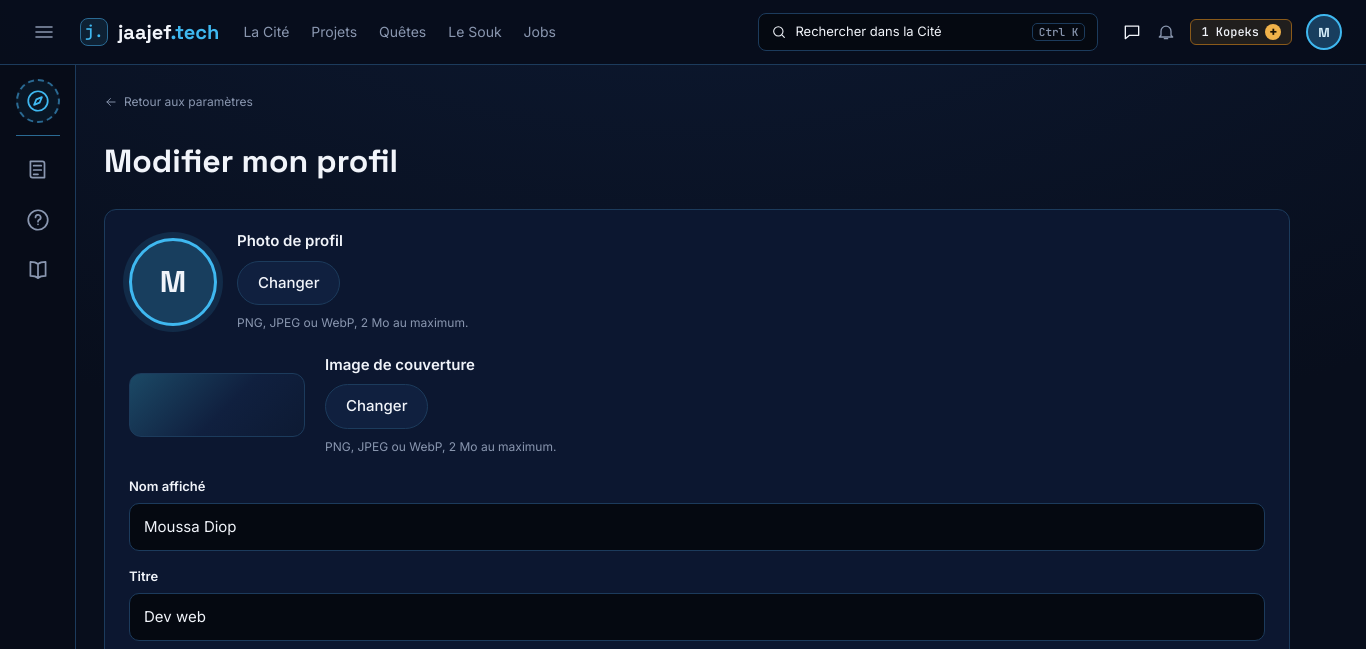
Test case: Edit profile › saves the changes for my own account, refreshes the top bar, and links to my profile
This screenshot has width=1366, height=649.
Replace the text in the field labelled "Nom affiché" with "Moussa D." at (697, 527), box [129, 502, 1265, 551]
(page scrolled)
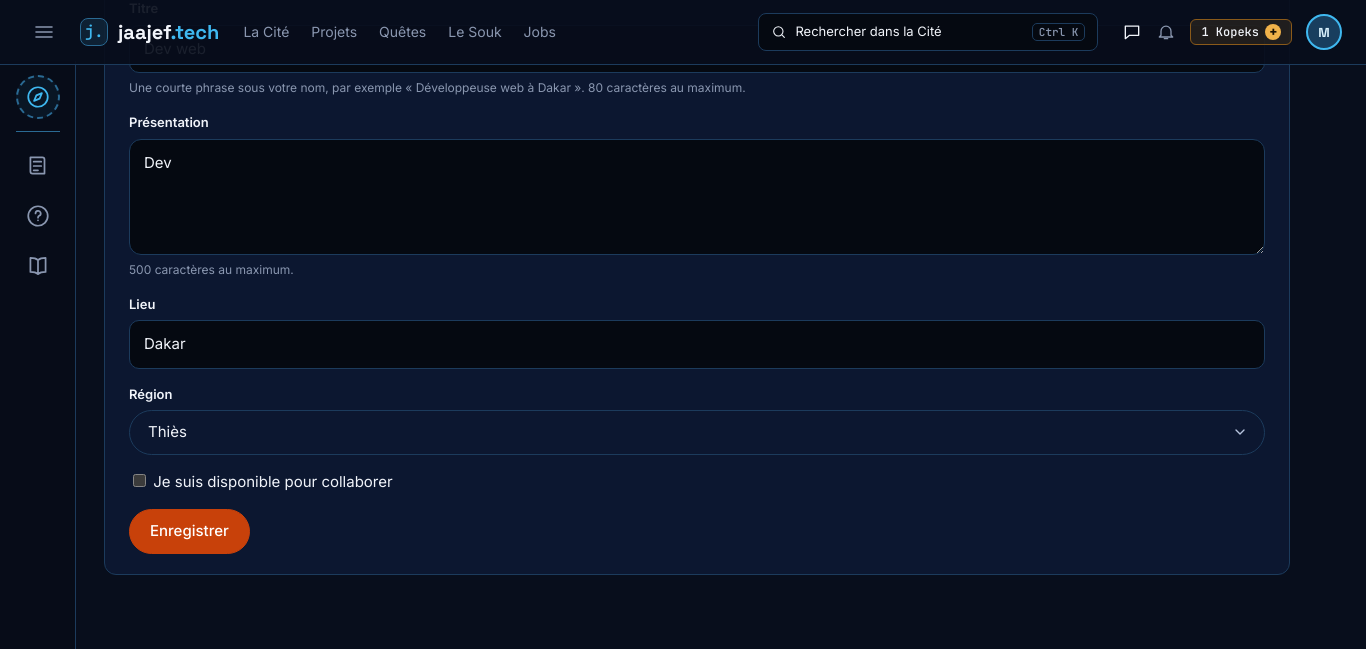
Click the checkbox labelled "Je suis disponible pour collaborer" at (140, 480), box [133, 474, 146, 486]
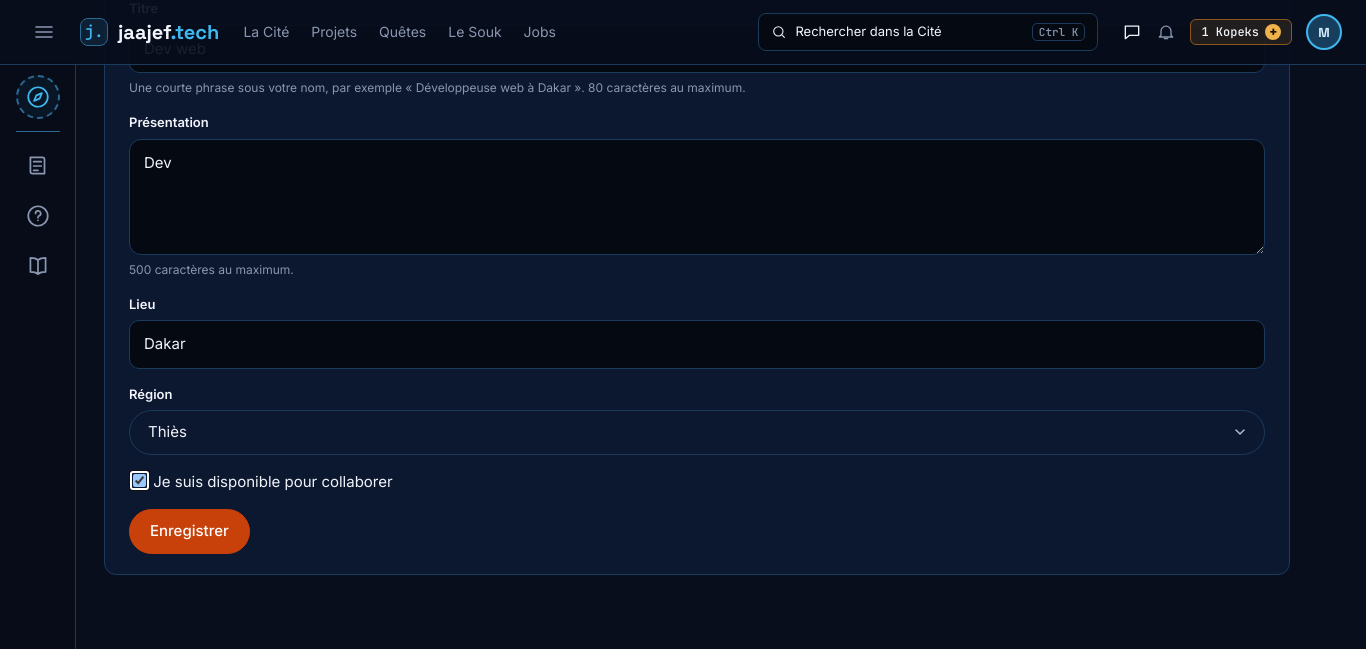
Click the button "Enregistrer" at (189, 531), box [129, 509, 250, 554]
(page scrolled)
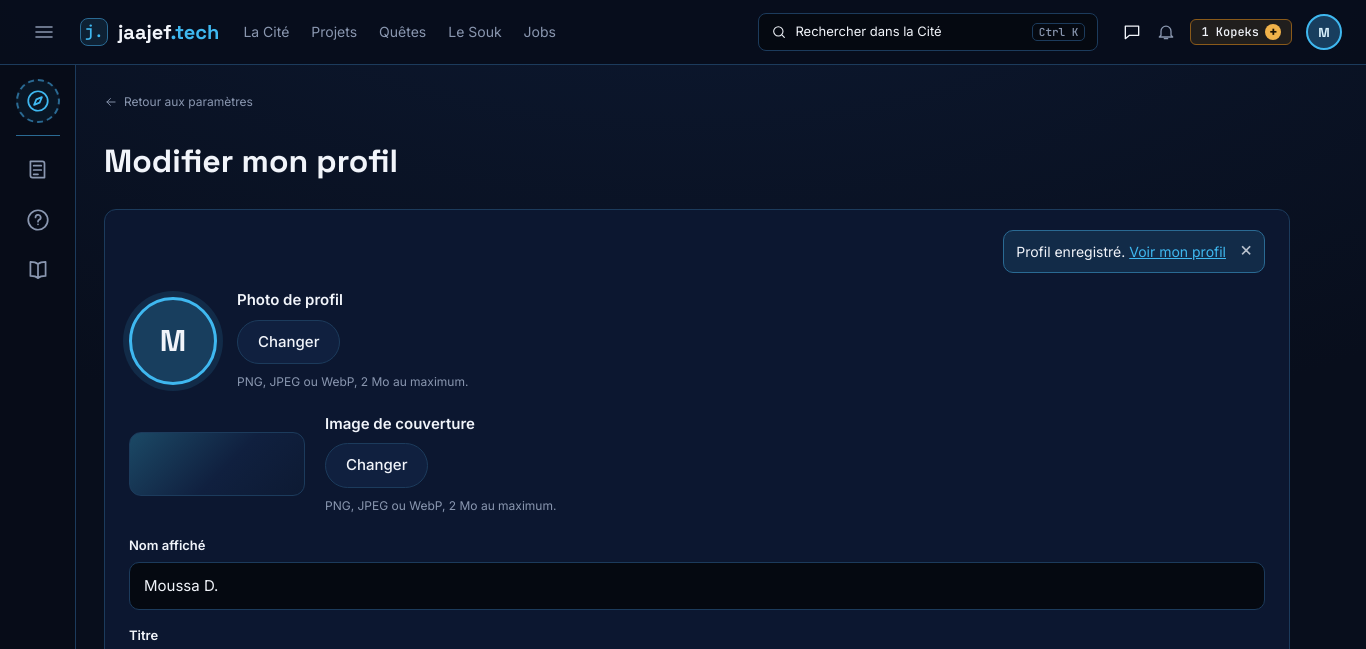
Result: the message shows "Profil enregistré" at [1016, 243, 1125, 260]
